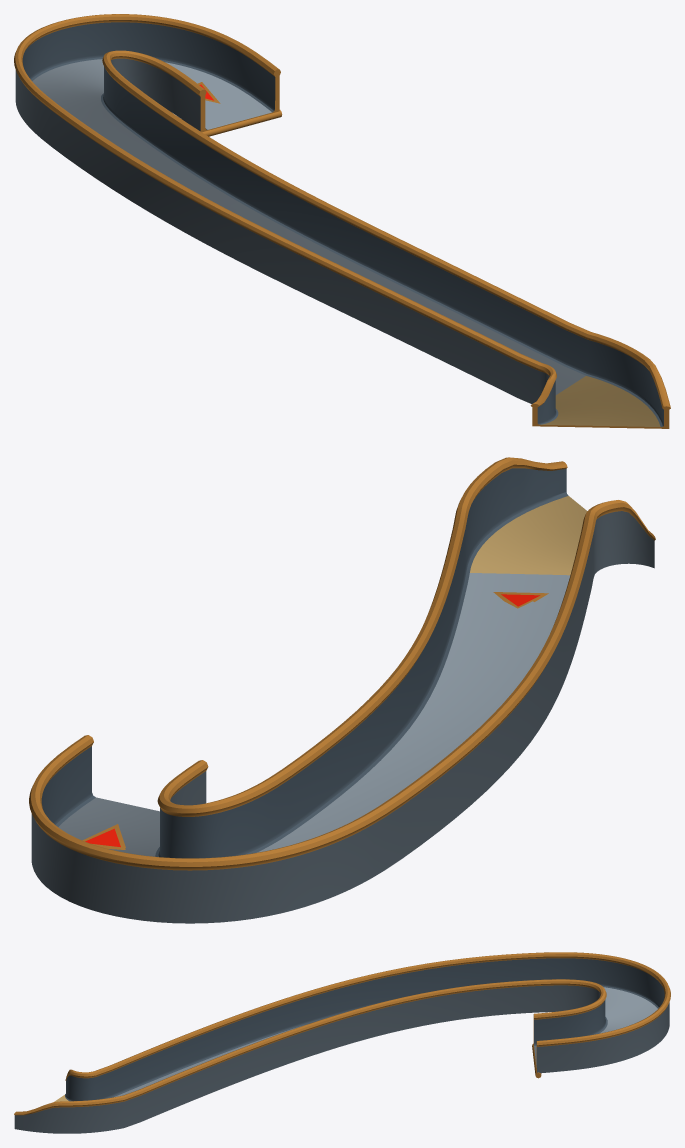
File: ramp-shortL.dae
The picture shows the model from 3 angles, top to bottom: view 1: azimuth 30°, elevation 25°; view 2: azimuth 150°, elevation 25°; view 3: azimuth 270°, elevation 25°; orthographic projection. The views are drawn at different scales.
Visible parts, largest first — view 1: channel_liner, channel_shell, accent, channel_floor, channel_entry; view 2: channel_shell, channel_liner, channel_floor, accent, channel_entry; view 3: channel_shell, channel_liner, accent, channel_floor.
Part boxes in pixels (x1,y1,x2,y2): channel_liner: (22, 22, 663, 426); channel_shell: (15, 58, 549, 403); accent: (14, 14, 670, 428); channel_floor: (32, 59, 585, 394); channel_entry: (541, 376, 660, 426); channel_shell: (31, 511, 654, 923); channel_liner: (41, 468, 568, 858); channel_floor: (58, 573, 570, 856); accent: (29, 457, 655, 870); channel_entry: (470, 496, 587, 575); channel_shell: (14, 985, 669, 1133); channel_liner: (65, 958, 664, 1101); accent: (14, 952, 670, 1115); channel_floor: (114, 987, 657, 1097).
Bounding box in the file's own units: 0.3368 × 0.1451 × 0.9787.
